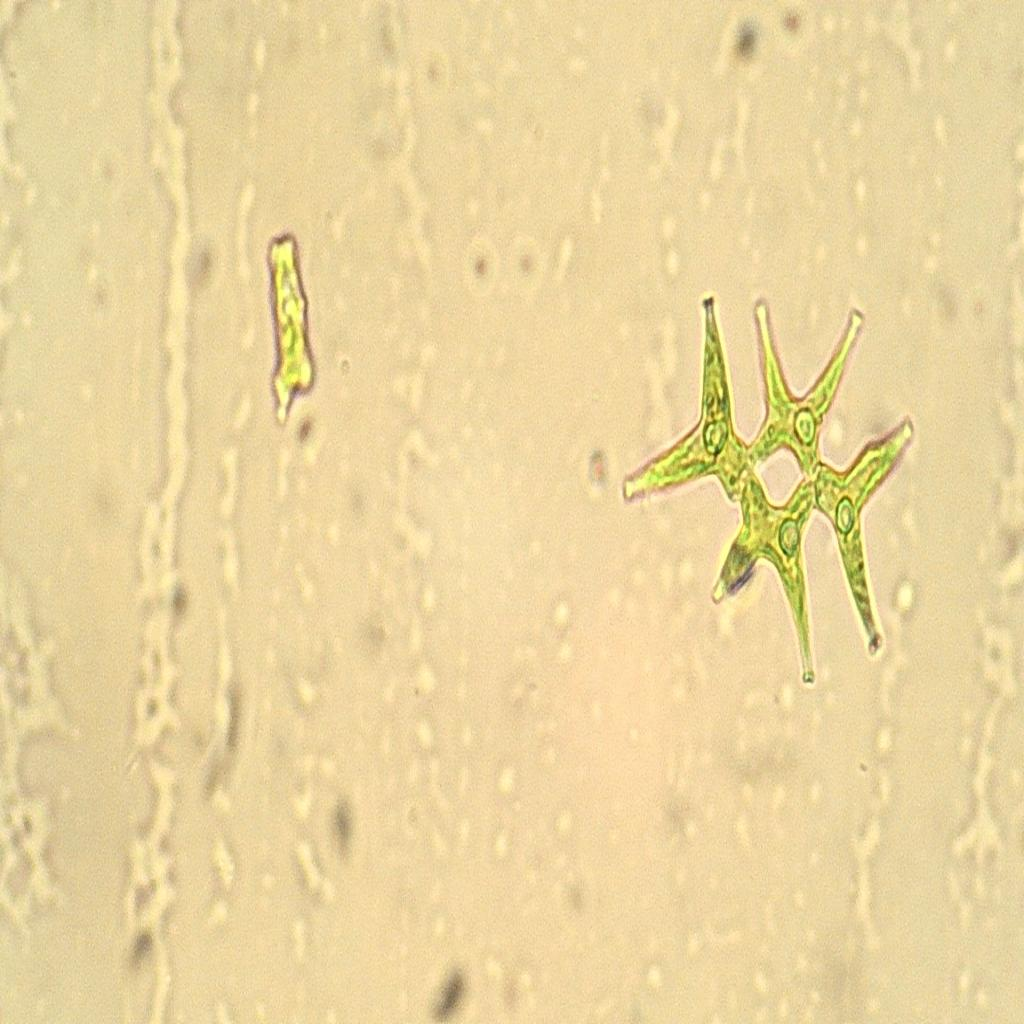Pediastrum_CT: (608, 262, 924, 712)
